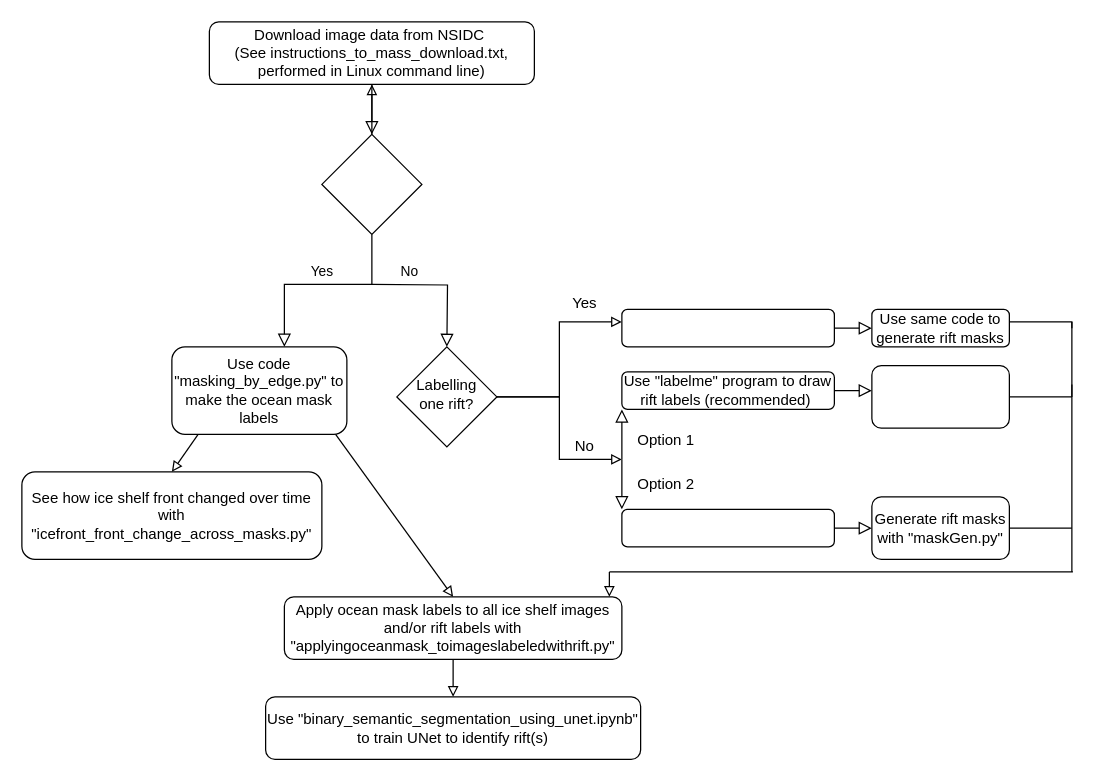
This 1096x781 diagram has some shape labels left out. The centre of each missing label's shape, as x and y in pixels:
Easiest way to label rift will be with "drawing_polygons.py": [727,327]
Generate rift masks with "labeme2voc.py": [940,396]
Masking ocean?: [371,183]
Use VGG Image Annotator to draw rift labels: [727,527]
